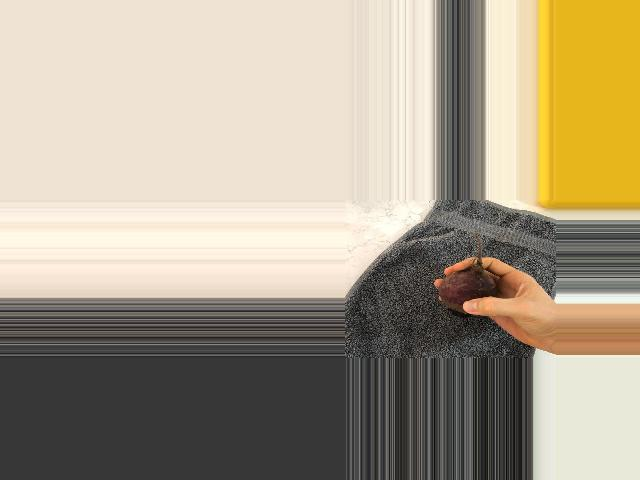beet: (438, 231, 496, 318)
